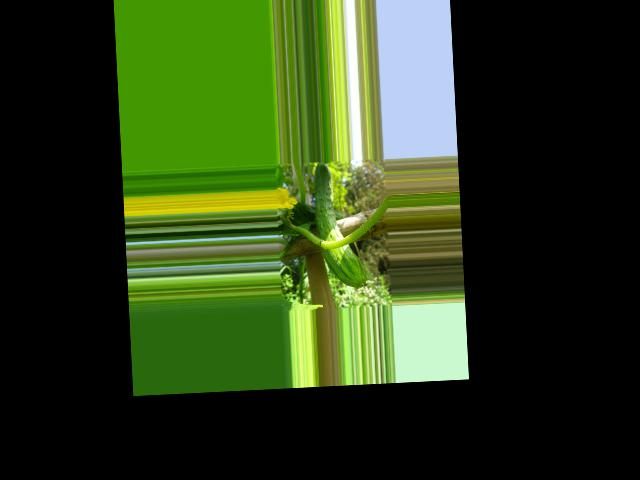cucumber: (312, 159, 366, 289)
